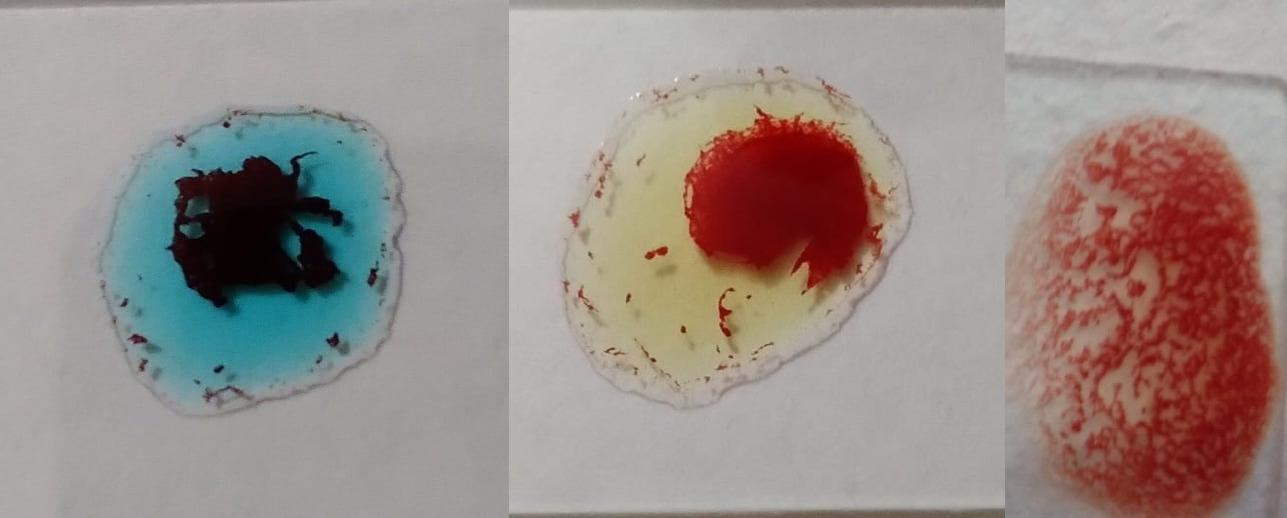A: (95, 109, 403, 422)
B: (575, 72, 901, 419)
D: (1018, 117, 1280, 513)
